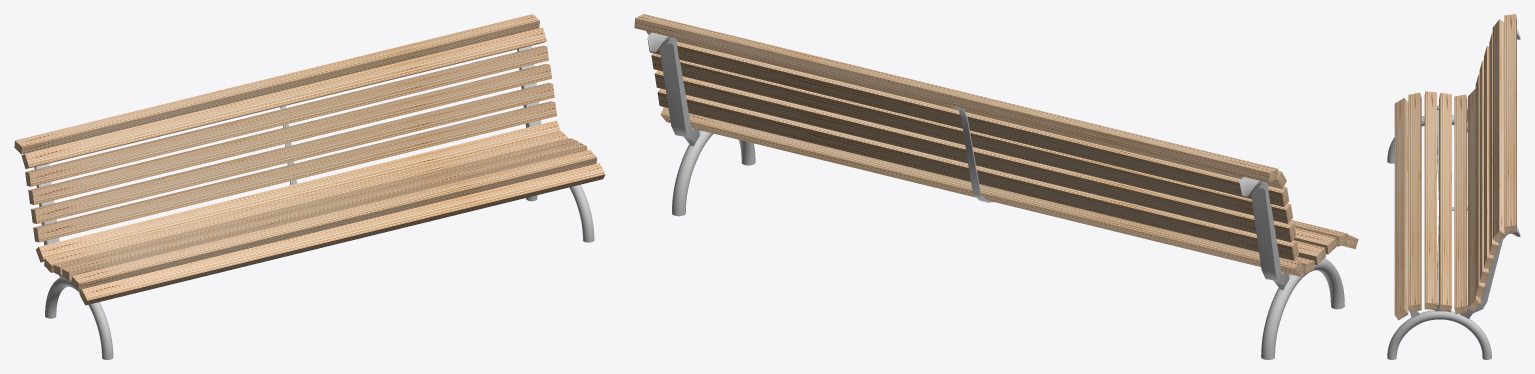
The model's file is parkBench.fbx.
3 renders of one model, left to right at view 1: azimuth 30°, elevation 25°; view 2: azimuth 150°, elevation 25°; view 3: azimuth 270°, elevation 25°, orthographic. The views are drawn at different scales.
Visible parts, largest first — view 1: Cube, Cube_7, Cube_8, Cube_10, Cube_9, Cube_11, Cube_11_2, Cube_2, Cube_6, Cube_3, Cube_4, Cube_5 (+1 smaller); view 2: Cube_7, Cube_11, Cube_8, Cube_10, Cube_9, feet, Cube_6, Cube_11_2, Cube_3; view 3: Cube, Cube_2, Cube_4, Cube_5, Cube_11, Cube_11_2, Cube_3, feet, Cube_6, Cube_9, Cube_8, Cube_7 (+1 smaller).
Boxes of the visible parts, x1=… form: Cube: x1=79, y1=163, x2=605, y2=305; Cube_7: x1=33, y1=101, x2=556, y2=242; Cube_8: x1=31, y1=83, x2=554, y2=223; Cube_10: x1=25, y1=45, x2=548, y2=186; Cube_9: x1=28, y1=64, x2=551, y2=204; Cube_11: x1=14, y1=14, x2=539, y2=154; Cube_11_2: x1=21, y1=27, x2=546, y2=168; Cube_2: x1=71, y1=150, x2=597, y2=290; Cube_6: x1=36, y1=120, x2=560, y2=262; Cube_3: x1=62, y1=142, x2=587, y2=280; Cube_4: x1=44, y1=132, x2=568, y2=272; Cube_5: x1=53, y1=138, x2=578, y2=275; Cube_7: x1=657, y1=88, x2=1298, y2=260; Cube_11: x1=634, y1=14, x2=1278, y2=182; Cube_8: x1=654, y1=70, x2=1296, y2=242; Cube_10: x1=647, y1=38, x2=1289, y2=206; Cube_9: x1=651, y1=53, x2=1292, y2=223; feet: x1=647, y1=32, x2=1344, y2=359; Cube_6: x1=660, y1=107, x2=1304, y2=276; Cube_11_2: x1=646, y1=31, x2=1286, y2=189; Cube_3: x1=1293, y1=227, x2=1336, y2=254; Cube: x1=1394, y1=98, x2=1408, y2=320; Cube_2: x1=1408, y1=92, x2=1421, y2=312; Cube_4: x1=1454, y1=94, x2=1467, y2=313; Cube_5: x1=1439, y1=92, x2=1451, y2=312; Cube_11: x1=1504, y1=14, x2=1516, y2=233; Cube_11_2: x1=1492, y1=19, x2=1505, y2=242; Cube_3: x1=1424, y1=91, x2=1436, y2=309; feet: x1=1387, y1=29, x2=1520, y2=359; Cube_6: x1=1468, y1=89, x2=1481, y2=311; Cube_9: x1=1484, y1=46, x2=1493, y2=269; Cube_8: x1=1479, y1=60, x2=1489, y2=283; Cube_7: x1=1475, y1=74, x2=1485, y2=297.
Bounding box in the file's own units: 210 × 64.99 × 56.06.
Materials: 2 (1 with a texture image).
